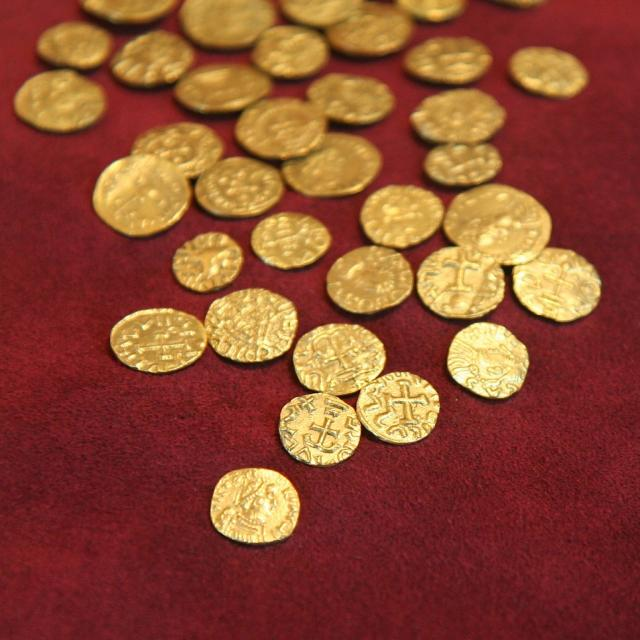Coin: (440, 178, 555, 267), (90, 151, 191, 236), (205, 281, 299, 363), (288, 320, 389, 395), (509, 246, 603, 326), (207, 467, 300, 546), (280, 127, 382, 196), (446, 321, 530, 404), (415, 245, 509, 315), (325, 244, 417, 315), (232, 93, 329, 160), (108, 309, 206, 374), (354, 372, 440, 446), (12, 68, 105, 135), (408, 87, 509, 148), (282, 391, 360, 468), (357, 181, 445, 248), (126, 118, 226, 175), (175, 0, 279, 53), (195, 156, 282, 219), (173, 59, 268, 115), (319, 2, 415, 57), (249, 24, 333, 84), (113, 28, 194, 88), (304, 75, 395, 127), (170, 230, 245, 291), (251, 210, 328, 267), (400, 34, 493, 81), (510, 45, 595, 96), (420, 139, 505, 187), (37, 18, 113, 70), (280, 0, 365, 26), (83, 0, 171, 23), (398, 0, 457, 22), (504, 0, 539, 9)
